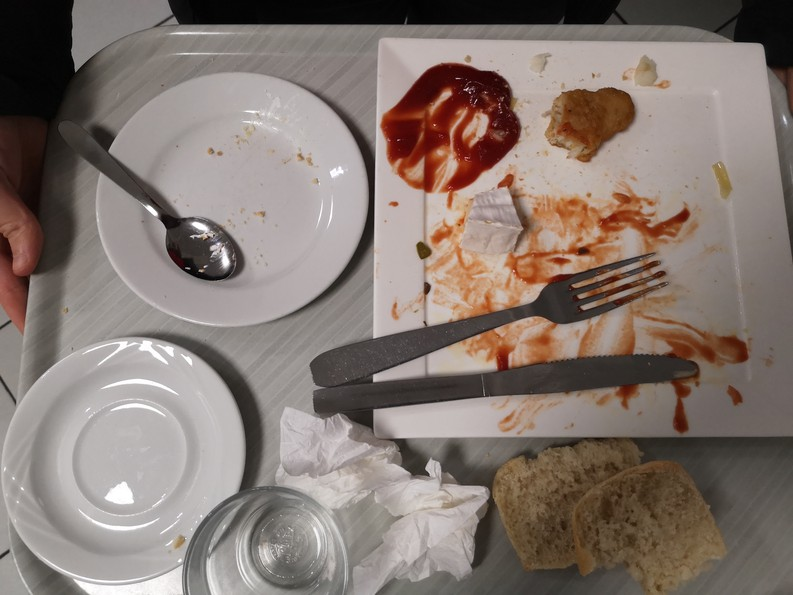cup: (199, 492, 350, 595)
cutlery: (307, 254, 675, 406), (53, 119, 244, 285)
orga: (496, 431, 741, 594), (411, 56, 519, 175), (549, 81, 636, 167)
trash: (281, 410, 500, 595), (460, 187, 531, 272)
